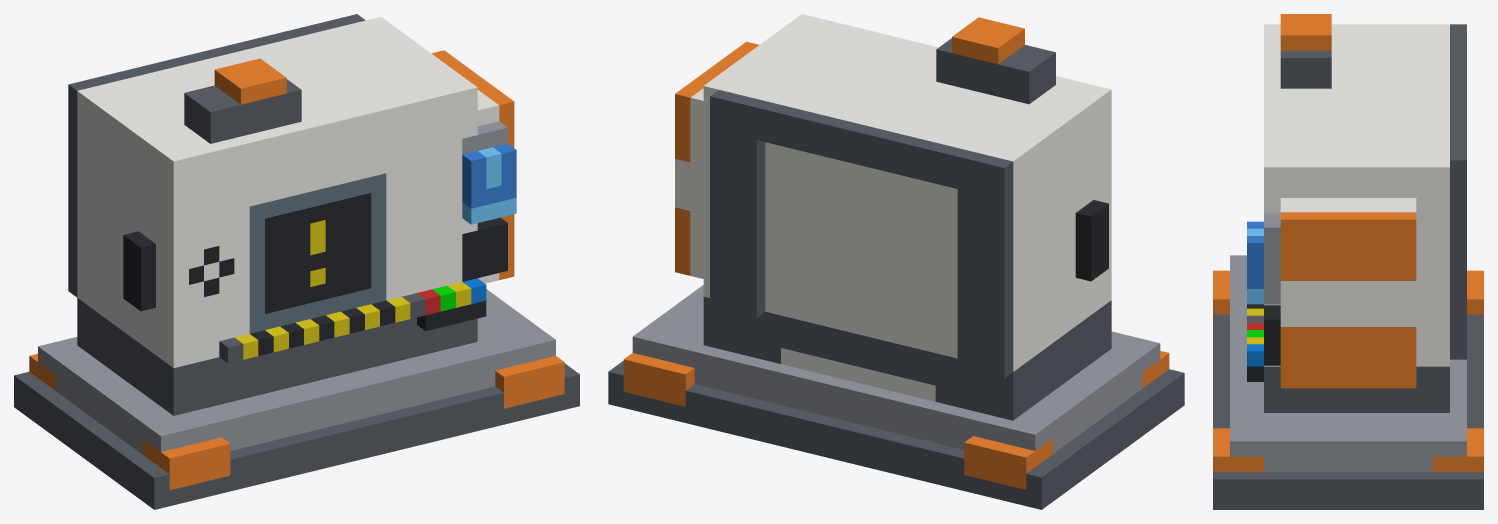
The model's file is Waste_Compactor.obj.
The picture shows the model from 3 angles, left to right: view 1: azimuth 30°, elevation 25°; view 2: azimuth 150°, elevation 25°; view 3: azimuth 270°, elevation 25°; orthographic projection. The views are drawn at different scales.
Bounding box in the file's own units: 2.8 × 2.3 × 1.6.
Materials: 1 (1 with a texture image).
